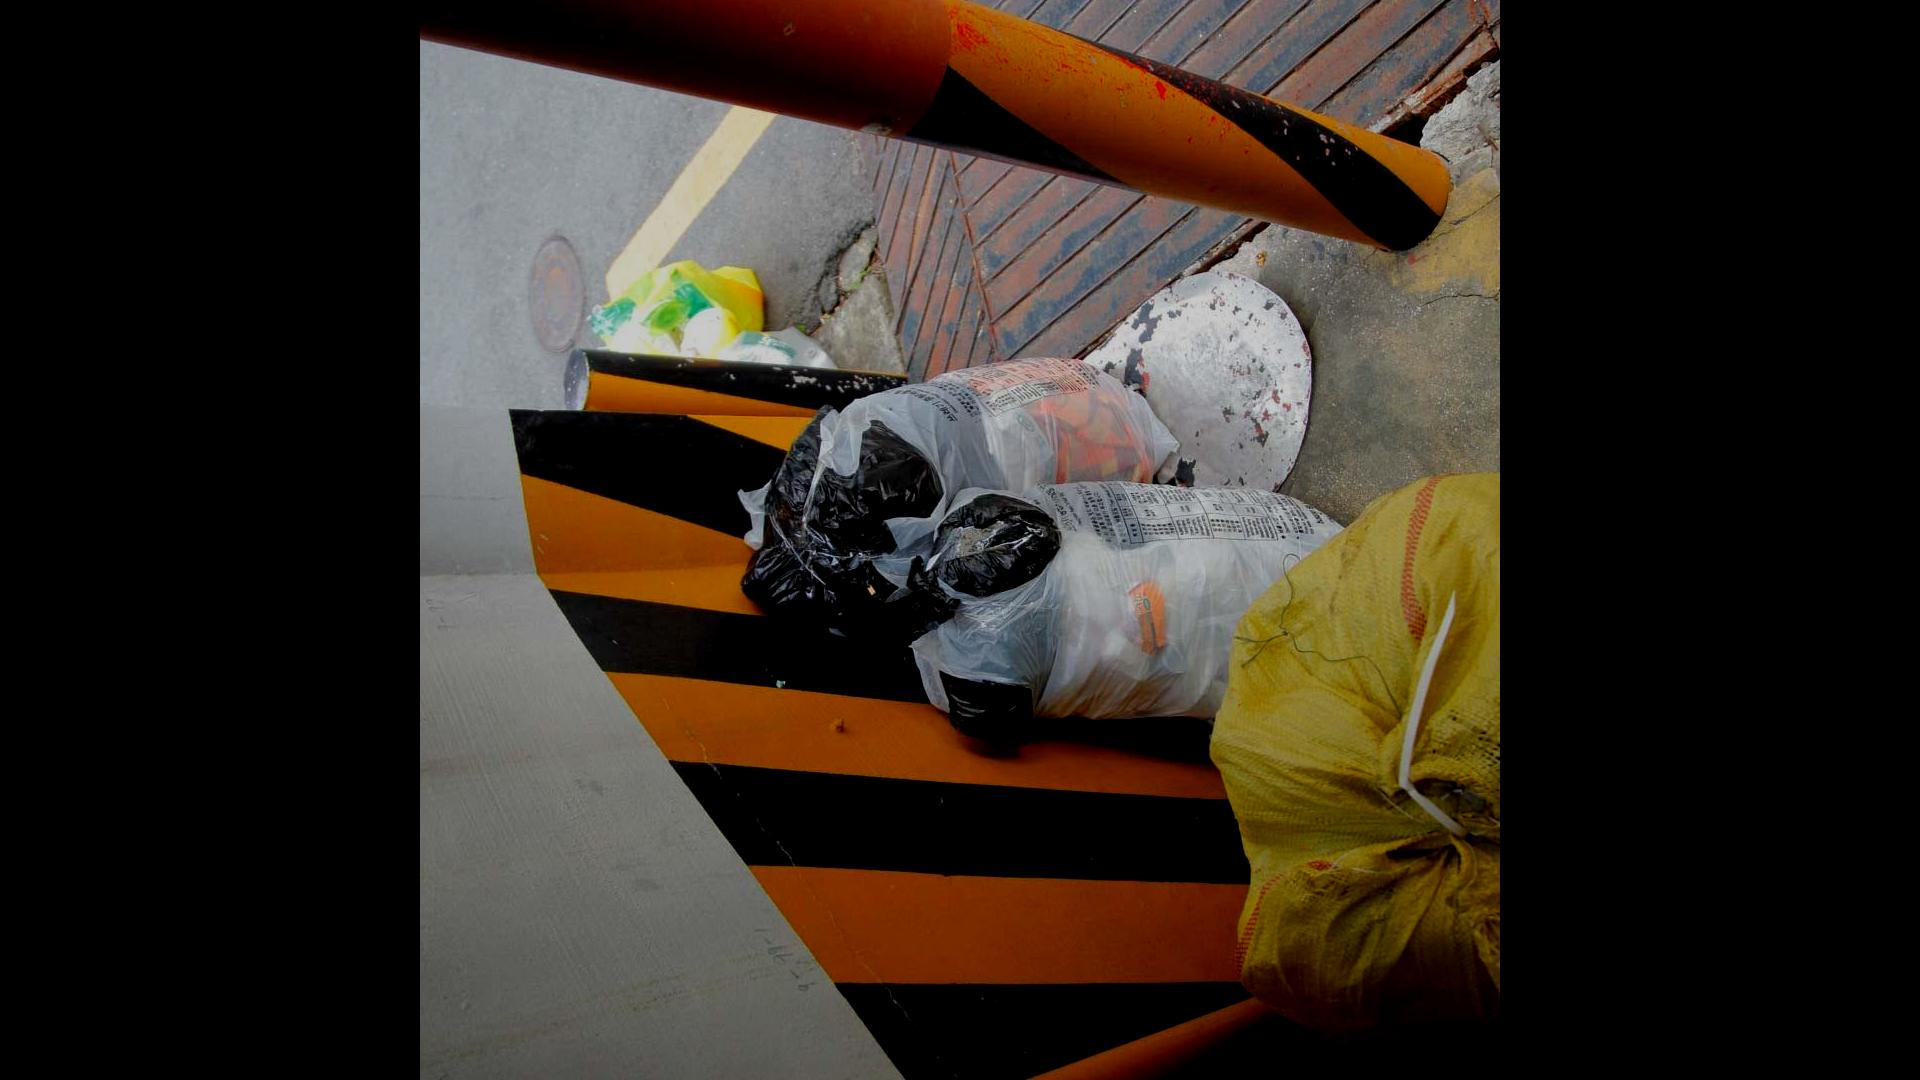white_bag: (725, 324, 1187, 638), (905, 476, 1371, 762)
